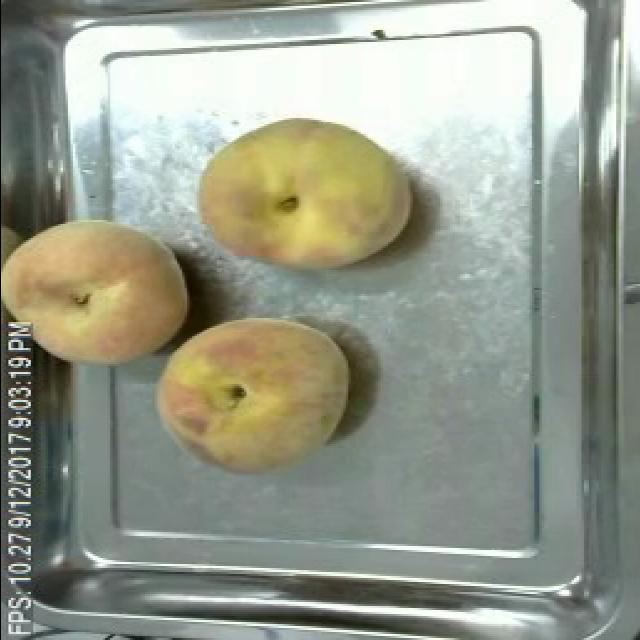Fruit: (189, 108, 419, 282), (144, 308, 358, 482), (0, 210, 193, 376)
